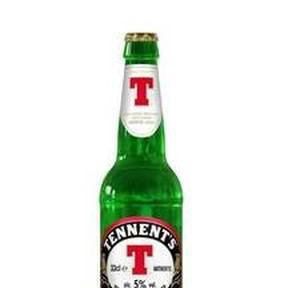beer: (97, 32, 183, 288)
